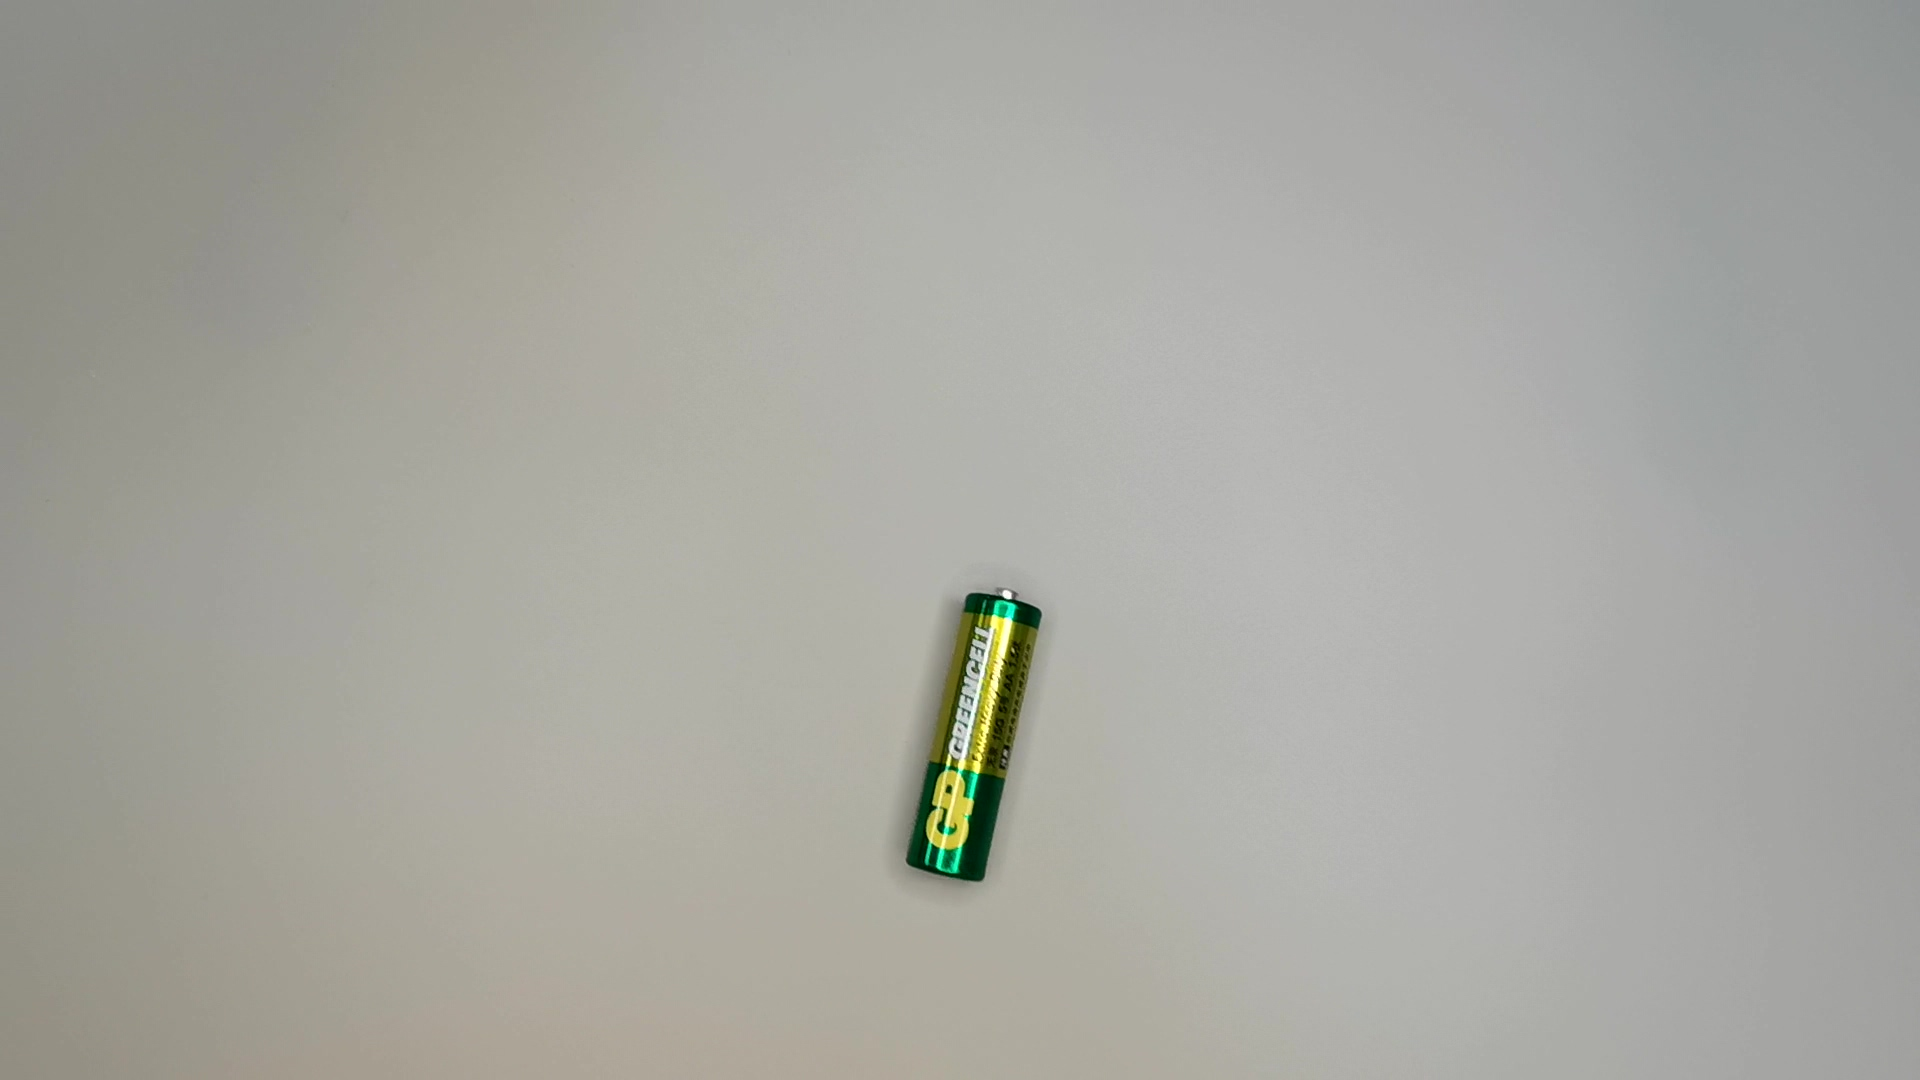battery: (906, 582, 1054, 891)
